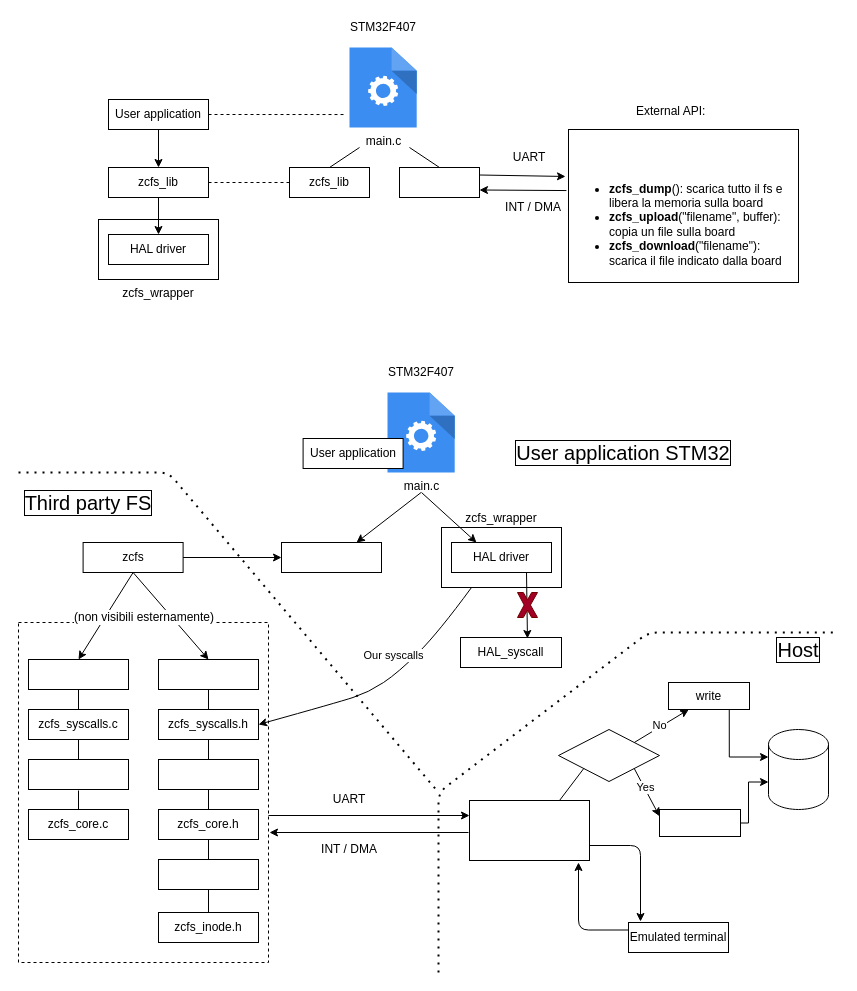
Some shapes in this 857 by 991 pixel diagram are drawn without their labels. Here are the shapes that lost their labels. From the top down, the box of each, then its label:
(398, 166, 480, 198): zcfs_api
(280, 542, 382, 572): zcfs_lib.h
(28, 658, 128, 690): zcfs_buffer.c
(158, 658, 258, 690): zcfs_buffer.h
(28, 758, 128, 790): zcfs_util.c
(158, 758, 258, 790): zcfs_util.h
(558, 728, 660, 782): zcfs_cmd?
(468, 800, 590, 860): python broker
(658, 808, 740, 836): read
(158, 858, 258, 890): zcfs_mem.h
